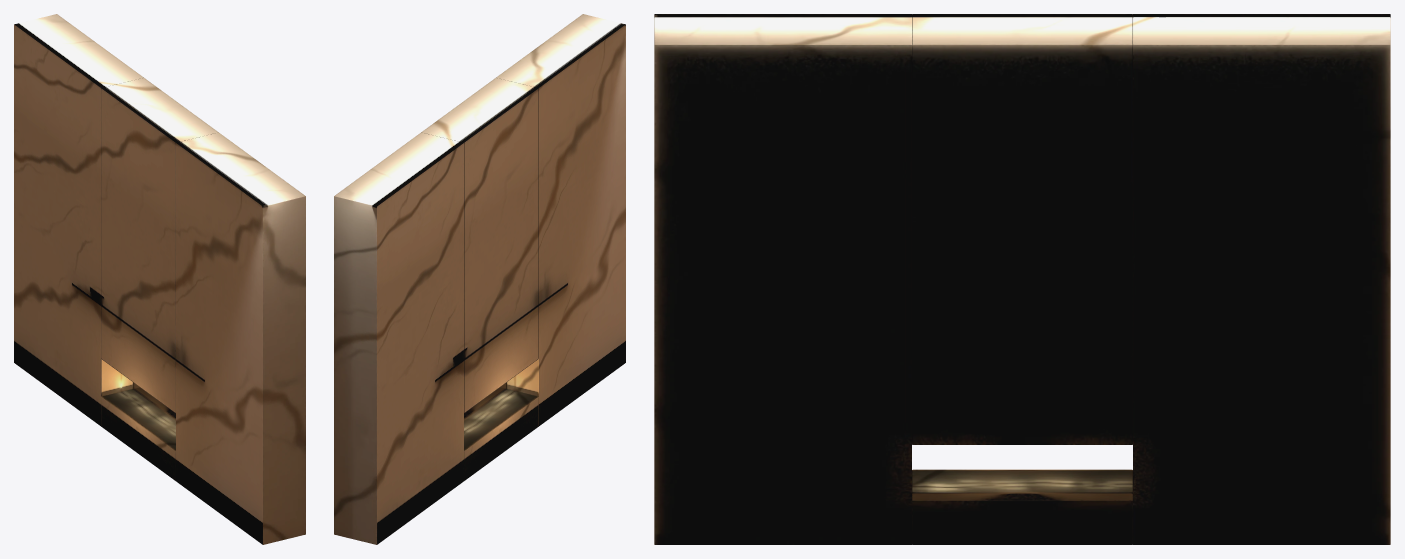
The model's file is int_marble.glb.
3 renders of one model, left to right at view 1: azimuth 30°, elevation 25°; view 2: azimuth 150°, elevation 25°; view 3: azimuth 270°, elevation 25°, orthographic. The views are drawn at different scales.
Visible parts, largest first — view 1: int_marble; view 2: int_marble; view 3: int_marble.
Part boxes in pixels (x1,y1,x2,y2): int_marble: (14,14,305,544); int_marble: (334,14,625,544); int_marble: (654,14,1390,544).
Size of the model in its own units: 0.6 by 4.5 by 6.
1 material, 1 textured.
